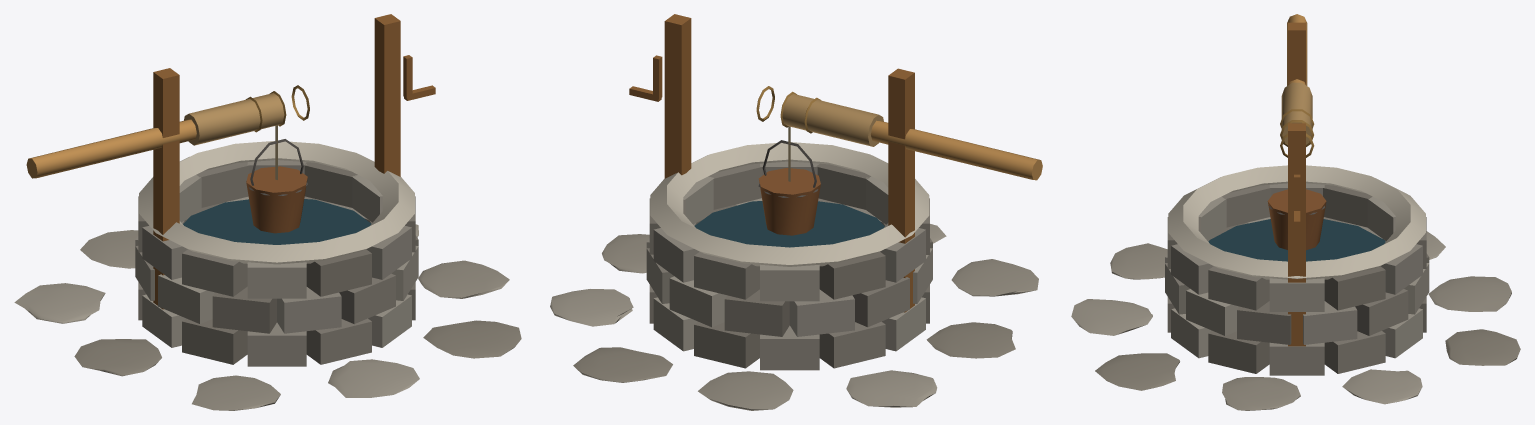
Rendered from well-2.glb.
3 renders of one model, left to right at view 1: azimuth 30°, elevation 25°; view 2: azimuth 150°, elevation 25°; view 3: azimuth 270°, elevation 25°, orthographic. The views are drawn at different scales.
Visible parts, largest first — view 1: building-well-2; view 2: building-well-2; view 3: building-well-2.
Part boxes in pixels (<box>): building-well-2: <box>14,14,521,410</box>; building-well-2: <box>550,14,1042,410</box>; building-well-2: <box>1071,14,1520,410</box>.
Size of the model in its own units: 3.75 by 2.11 by 3.5.
